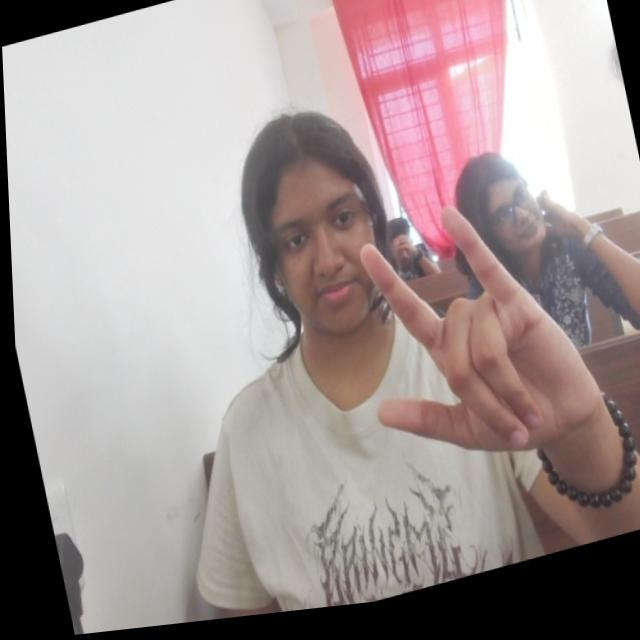iloveyou: (331, 180, 611, 505)
